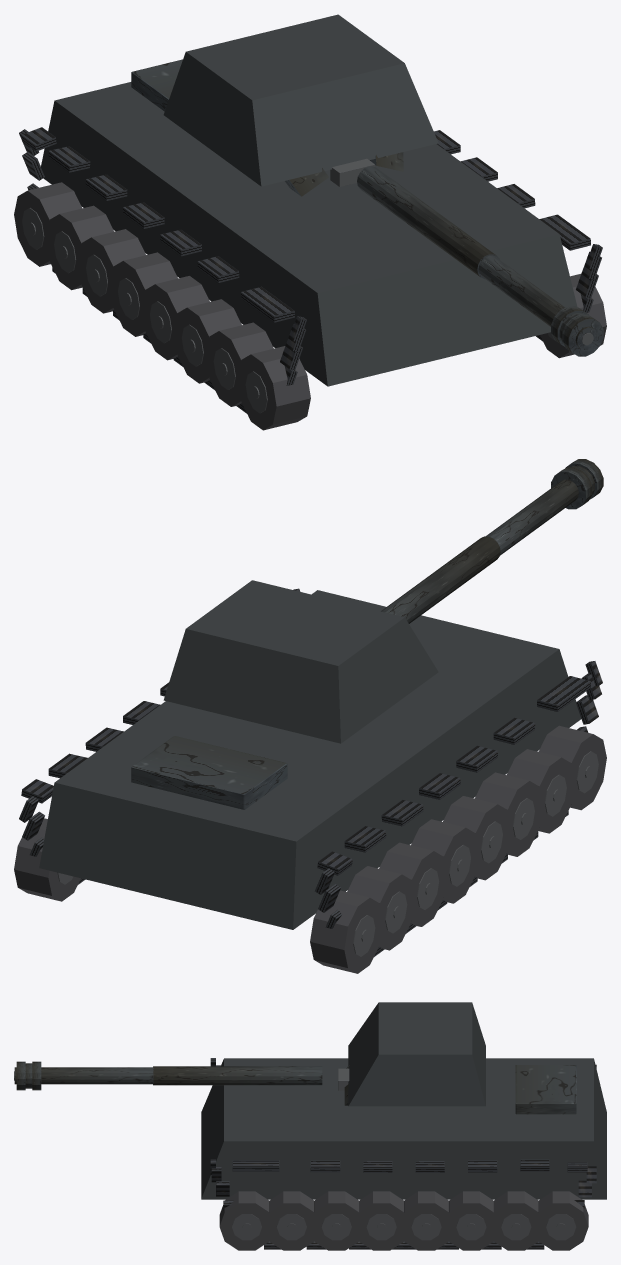
The model's file is ironwolf_LOD2.glb.
The picture shows the model from 3 angles, top to bottom: view 1: azimuth 30°, elevation 25°; view 2: azimuth 150°, elevation 25°; view 3: azimuth 270°, elevation 25°; orthographic projection. The views are drawn at different scales.
Visible parts, largest first — view 1: HullMesh, TurretMesh, Wheels_L, TrackL, Gun_tube1, TrackR, Gun_tube2, Wheels_R, Gun_brk1; view 2: HullMesh, TurretMesh, Wheels_L, TrackL, Gun_tube1, TrackR, Gun_tube2, Wheels_R, Gun_brk2; view 3: HullMesh, Wheels_R, TurretMesh, TrackR, Gun_tube1, Gun_tube2.
Part boxes in pixels (box(x1,y1,x2,y2)): HullMesh: box(41, 59, 577, 386); TurretMesh: box(163, 14, 438, 196); Wheels_L: box(14, 182, 310, 430); TrackL: box(19, 127, 306, 413); Gun_tube1: box(357, 166, 499, 279); TrackR: box(434, 130, 602, 341); Gun_tube2: box(478, 255, 597, 349); Wheels_R: box(540, 274, 606, 358); Gun_brk1: box(562, 314, 603, 356); HullMesh: box(39, 590, 581, 929); TurretMesh: box(163, 580, 438, 743); Wheels_L: box(310, 725, 606, 973); TrackL: box(315, 661, 602, 956); Gun_tube1: box(381, 536, 500, 623); TrackR: box(19, 588, 300, 884); Gun_tube2: box(486, 479, 578, 555); Wheels_R: box(14, 818, 80, 901); Gun_brk2: box(551, 467, 592, 509); HullMesh: box(201, 1058, 606, 1199); Wheels_R: box(219, 1191, 588, 1250); TurretMesh: box(338, 1002, 485, 1106); TrackR: box(210, 1159, 596, 1249); Gun_tube1: box(153, 1066, 322, 1085); Gun_tube2: box(14, 1067, 152, 1084).
Size of the model in its own units: 4.14 by 2.81 by 9.06.
Materials: 5 (3 with a texture image).
